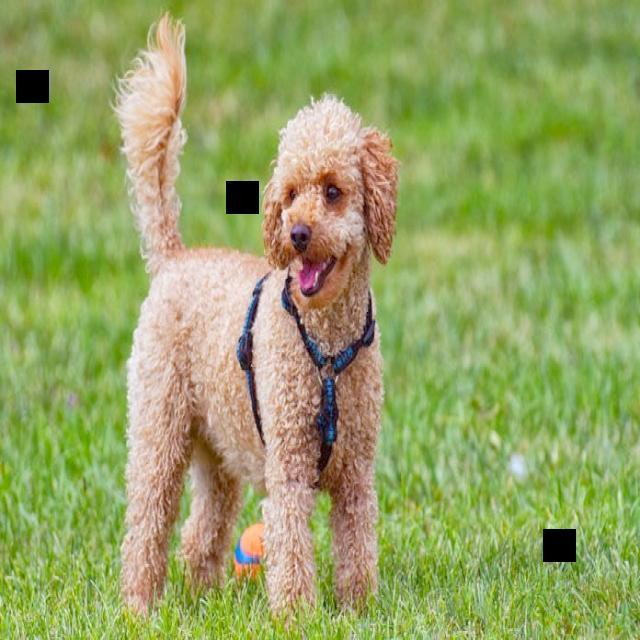adult_dog: (109, 15, 395, 620)
